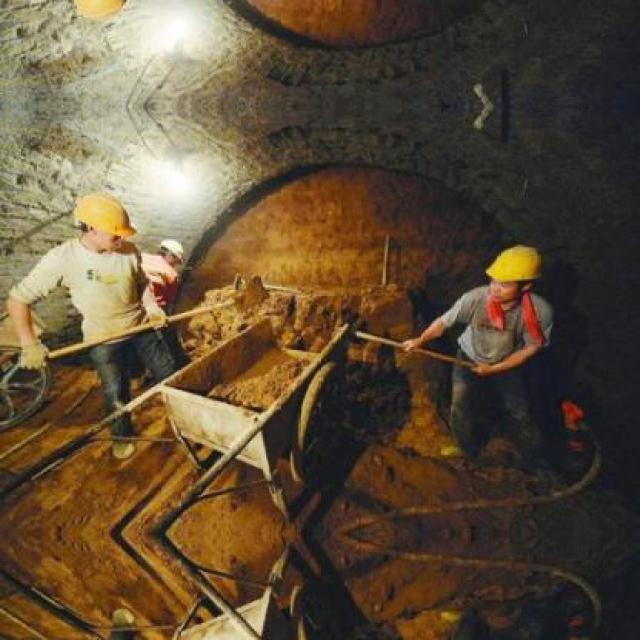helmet: (69, 188, 137, 258), (482, 242, 546, 302), (70, 0, 138, 25), (154, 237, 188, 270)
